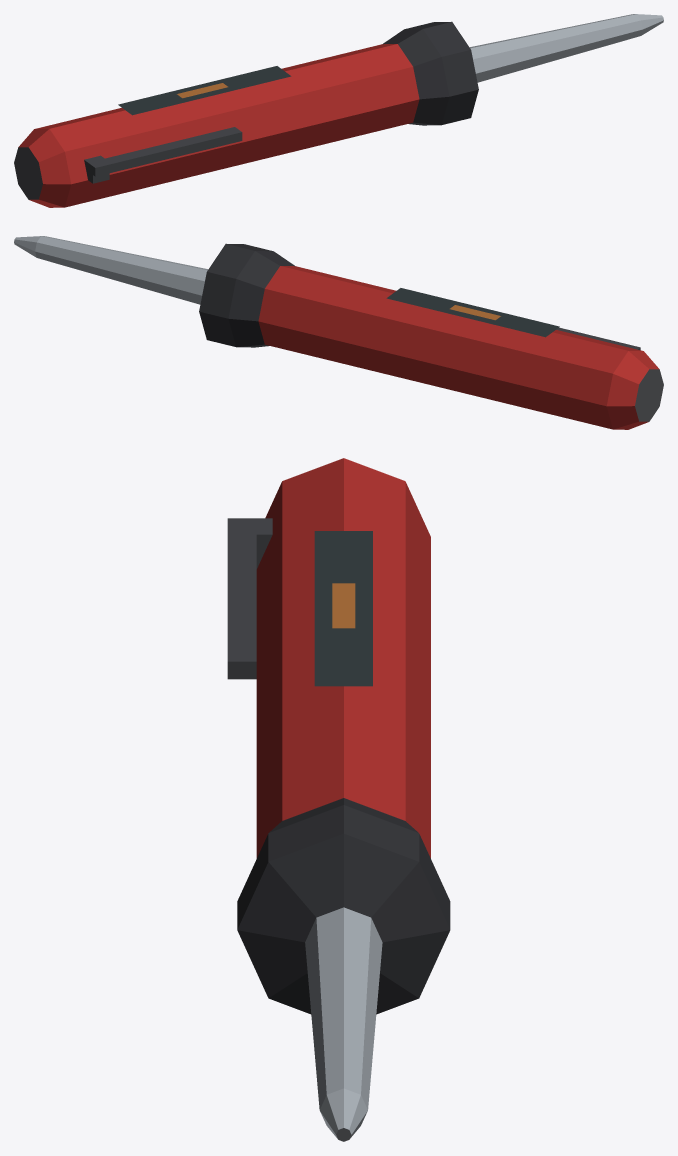
File: voltmeter.glb
3 renders of one model, top to bottom at view 1: azimuth 30°, elevation 25°; view 2: azimuth 150°, elevation 25°; view 3: azimuth 270°, elevation 25°, orthographic. The views are drawn at different scales.
Parts seen in each view (by area): view 1: voltmeter; view 2: voltmeter; view 3: voltmeter.
Boxes of the visible parts, x1,y1,x2,y2 form: voltmeter: (14,14,663,207); voltmeter: (14,236,663,429); voltmeter: (227,458,450,1141).
Size of the model in its own units: 0.151 by 0.022 by 0.023.
1 material, 1 textured.
